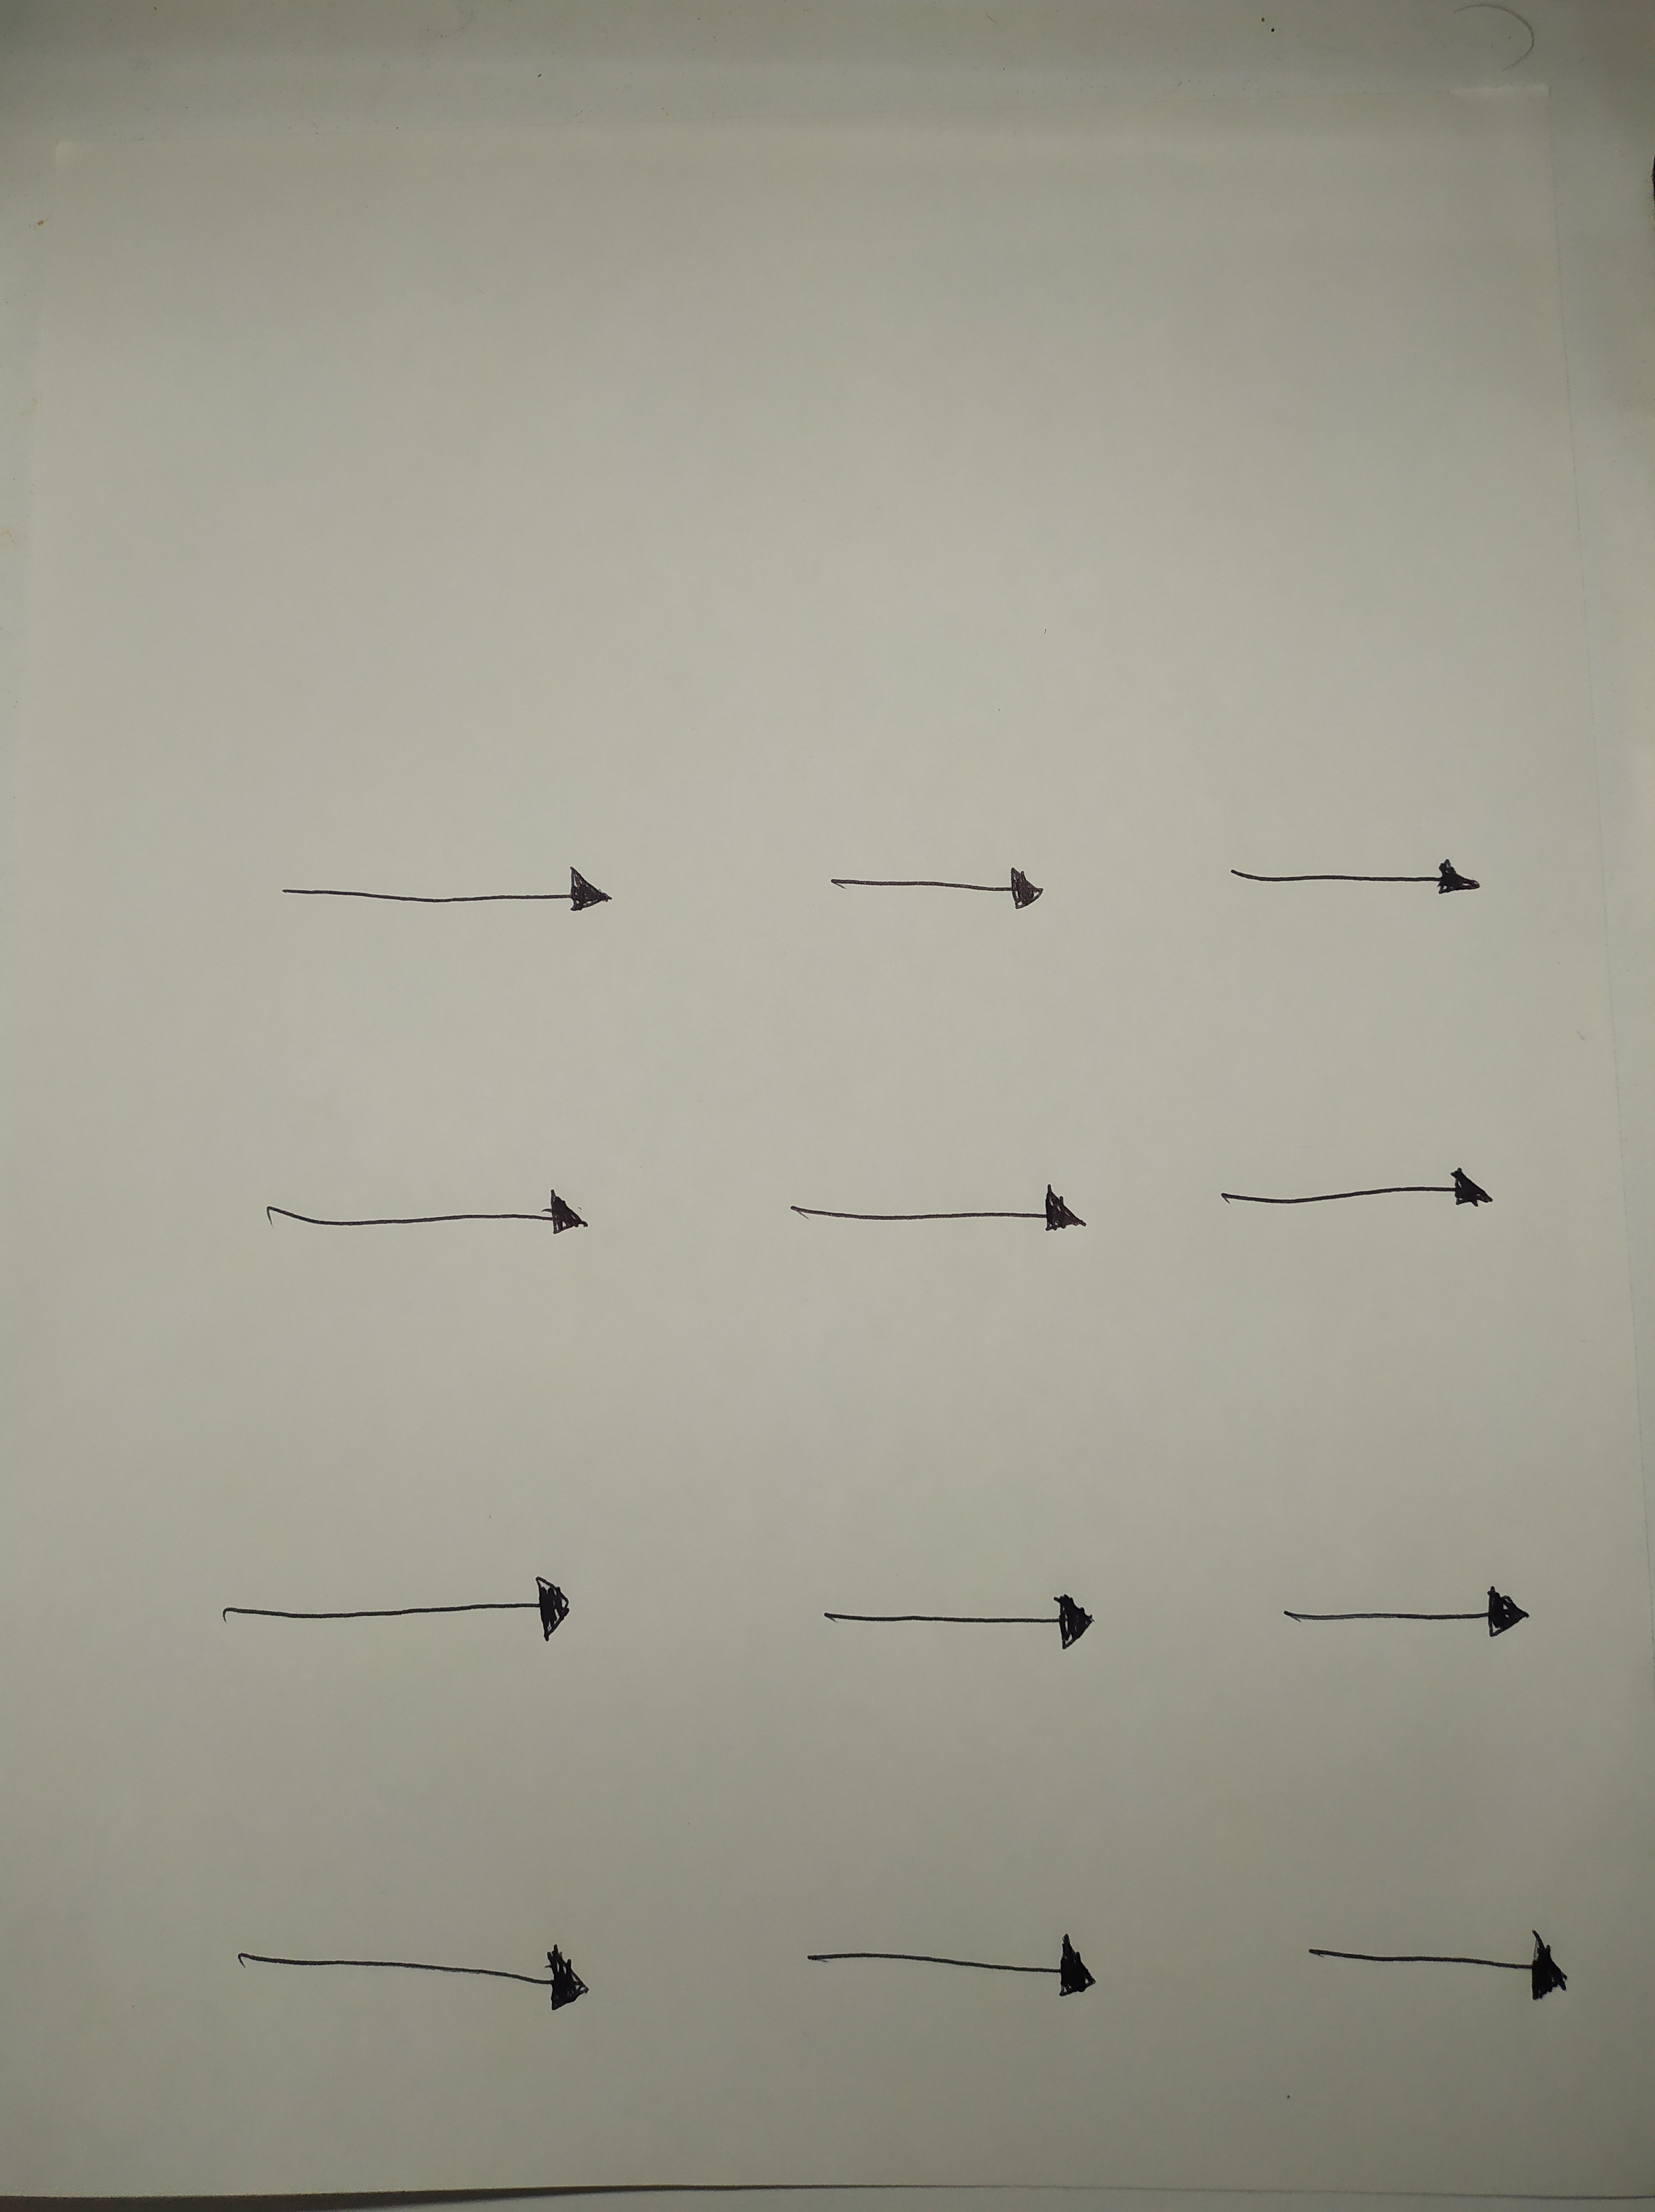arrow_line_right: (240, 799, 661, 968), (207, 1894, 643, 2047), (768, 1866, 1144, 2024), (1290, 1875, 1587, 2024), (209, 1546, 605, 1656), (782, 1557, 1123, 1675), (753, 1147, 1107, 1260), (235, 1154, 607, 1251), (1187, 829, 1525, 933), (1191, 1138, 1523, 1237), (791, 843, 1085, 942), (1269, 1581, 1551, 1663)
